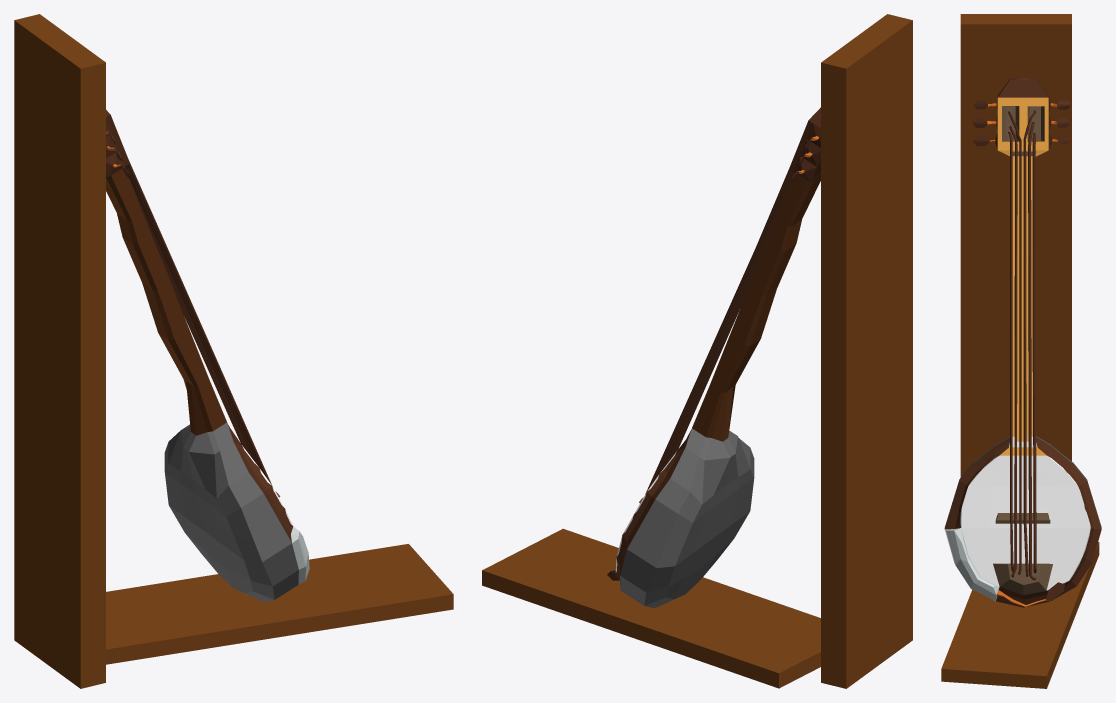
File: banjo.glb
3 views of the same model, side by side, from view 1: azimuth 30°, elevation 25°; view 2: azimuth 150°, elevation 25°; view 3: azimuth 270°, elevation 25° (orthographic). The views are drawn at different scales.
Parts seen in each view (by area): view 1: Cube.002, Cube; view 2: Cube.002, Cube; view 3: Cube.002, Cube.
Part boxes in pixels (bbox=[...]): Cube.002: bbox=[14, 14, 453, 688]; Cube: bbox=[106, 110, 309, 602]; Cube.002: bbox=[482, 14, 912, 688]; Cube: bbox=[607, 107, 820, 608]; Cube.002: bbox=[941, 14, 1099, 688]; Cube: bbox=[944, 77, 1101, 607].
Size of the model in its own units: 3.81 by 5.95 by 1.66.
